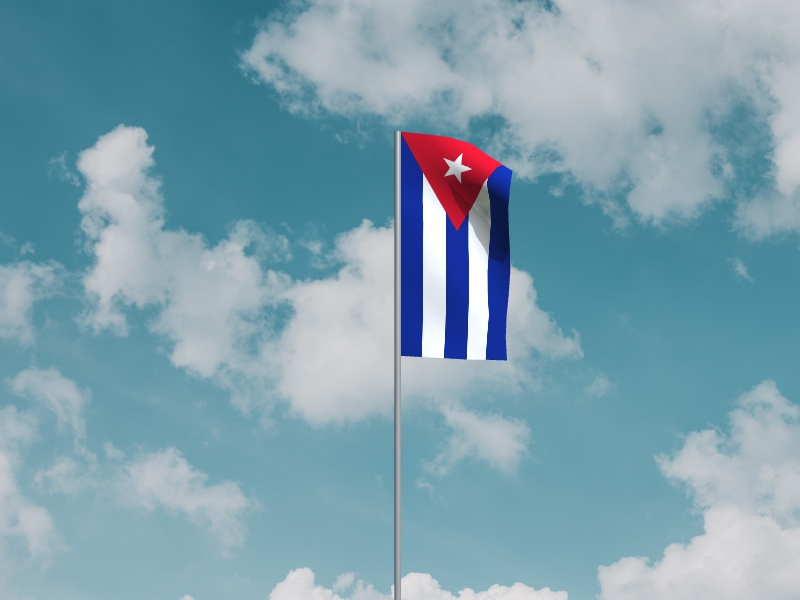cu: (402, 132, 514, 362)
